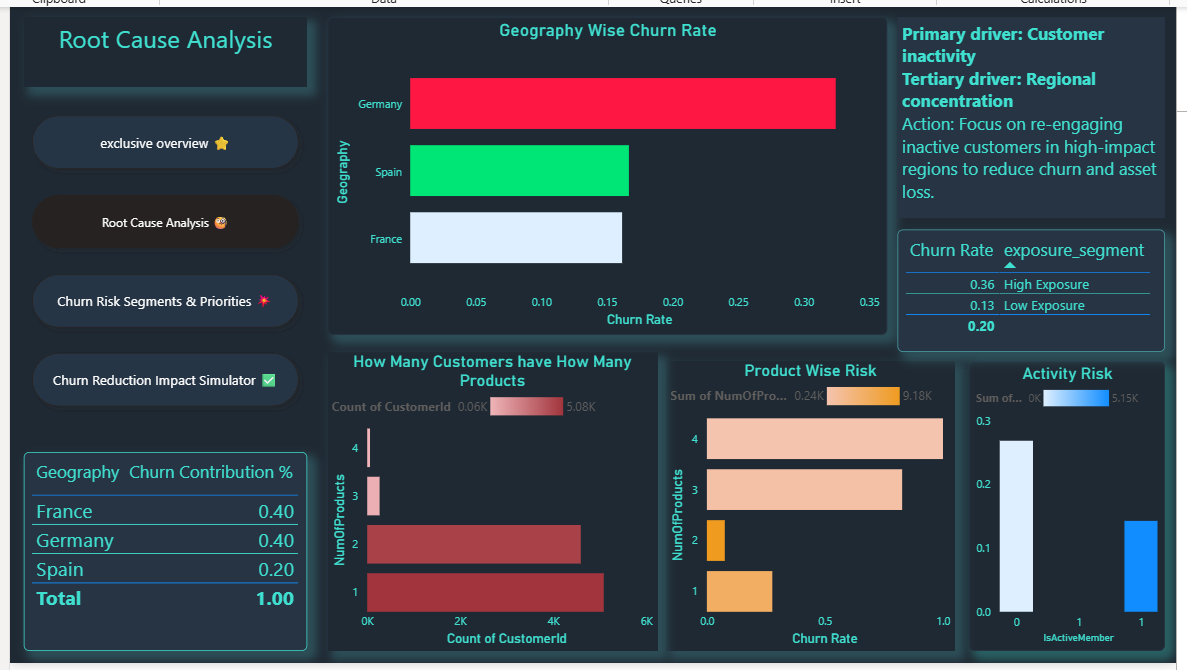

This screenshot's page, from the dashboard's own definition file:
{"tool":"powerbi","page":{"name":"Root Cause Analysis 🧐","canvas":[1280,720],"ordinal":1},"visuals":[{"type":"barChart","title":"Product Wise Risk ","fields":{"Category":["churn.NumOfProducts"],"Y":["churn.Churn Rate"]},"box":[710.6,378,327.6,327.6],"z":0},{"type":"columnChart","title":"Activity Risk","fields":{"Category":["churn.IsActiveMember"],"Y":["churn.Churn Rate"]},"box":[1038.1,378,230.1,327.6],"z":1000},{"type":"barChart","title":"Geography Wise Churn Rate","fields":{"Category":["churn.Geography"],"Y":["churn.Churn Rate"]},"box":[348.5,11,614.8,348.5],"z":2000},{"type":"tableEx","fields":{"Values":["churn.Geography","churn.Churn Contribution %"]},"box":[15.1,519.1,310.8,188.1],"z":3000},{"type":"tableEx","fields":{"Values":["churn.Churn Rate","churn_behavior_segment.exposure_segment"]},"box":[15.1,399.8,310.8,131],"z":4000},{"type":"barChart","title":"How Many Customers have How Many Products","fields":{"Y":["CountNonNull(churn.CustomerId)"],"Category":["churn.NumOfProducts"]},"box":[348.5,378.7,362.3,328],"z":5000},{"type":"textbox","box":[15.1,11,311.5,76.8],"z":6000},{"type":"textbox","box":[974.3,11.8,294,347.7],"z":7000},{"type":"pageNavigator","box":[15.1,99.1,310.8,278.8],"z":8000},{"type":"image","box":[1029.7,11.8,169.7,110.9],"z":9000}]}

Visuals, with their boxes on the page's 1280x720 design canvas (x1, y1, x2, y2). These are canvas units, not pixel positions in the 1187x670 screenshot, which may show the page scaled, cropped or inside an application window:
"Product Wise Risk " barChart: BBox(711, 378, 1038, 706)
"Activity Risk" columnChart: BBox(1038, 378, 1268, 706)
"Geography Wise Churn Rate" barChart: BBox(348, 11, 963, 360)
tableEx - churn.Geography x churn.Churn Contribution %: BBox(15, 519, 326, 707)
tableEx - churn.Churn Rate x churn_behavior_segment.exposure_segment: BBox(15, 400, 326, 531)
"How Many Customers have How Many Products" barChart: BBox(348, 379, 711, 707)
textbox: BBox(15, 11, 327, 88)
textbox: BBox(974, 12, 1268, 360)
pageNavigator: BBox(15, 99, 326, 378)
image: BBox(1030, 12, 1199, 123)
